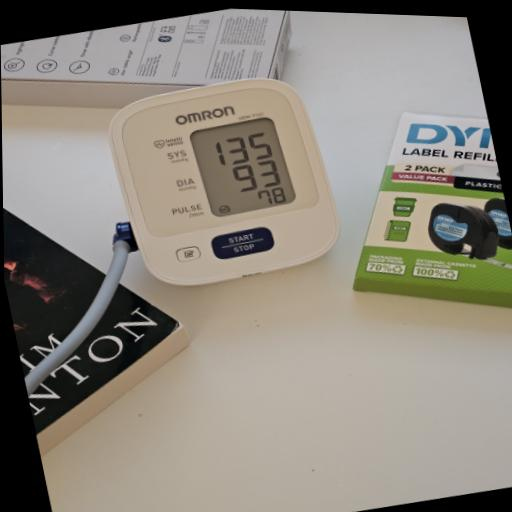lcd display: (188, 111, 299, 223)
